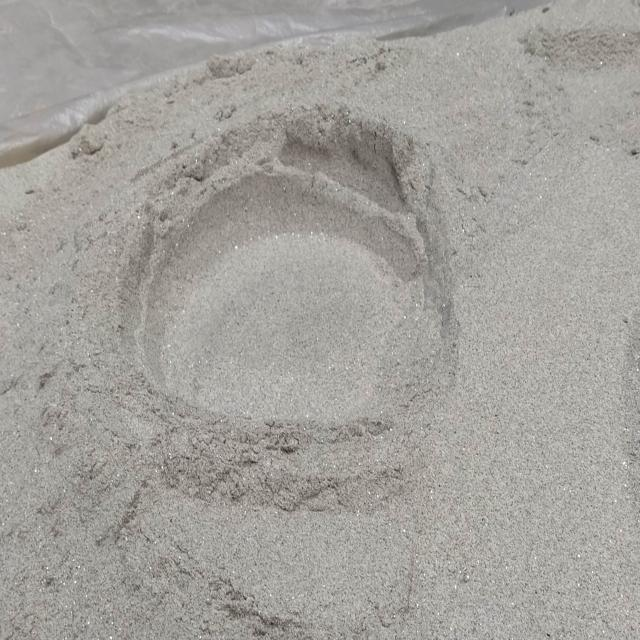C20: (144, 115, 440, 430)
